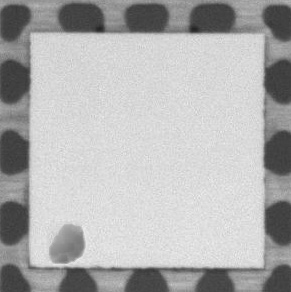DIE_INK: (46, 222, 84, 264)
